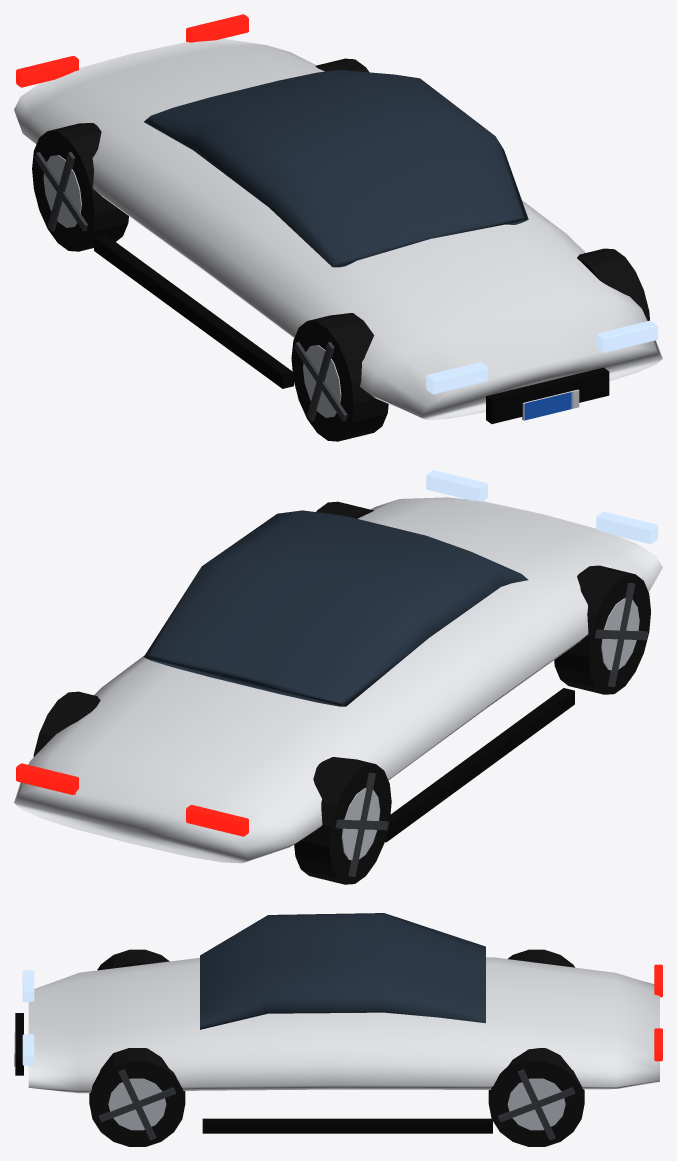
Rendered from sedan.glb.
3 renders of one model, top to bottom at view 1: azimuth 30°, elevation 25°; view 2: azimuth 150°, elevation 25°; view 3: azimuth 270°, elevation 25°, orthographic. The views are drawn at different scales.
Visible parts, largest first — view 1: SedHull, SedGlass, STire1, STire3, SedSkirt.001, SedGrille, STire0, SRim3, SRim1, SedHead.001, SedHead, SedTail.001 (+5 smaller); view 2: SedHull, SedGlass, STire3, STire1, SedSkirt.001, STire2, SRim3, SRim1, SedHead, SedHead.001, SedTail.001, SedTail (+2 smaller); view 3: SedHull, SedGlass, STire0, STire2, SedSkirt, SRim2, SRim0, STire1, STire3, SSpoke0.001, SSpoke2.001, SSpoke0 (+4 smaller).
Part boxes in pixels (box(x1,y1,x2,y2)): SedHull: box(14, 38, 662, 420); SedGlass: box(144, 70, 528, 267); STire1: box(291, 313, 388, 441); STire3: box(32, 123, 128, 251); SedSkirt.001: box(94, 234, 293, 388); SedGrille: box(486, 367, 609, 423); STire0: box(577, 248, 649, 320); SRim3: box(43, 155, 81, 227); SRim1: box(303, 345, 341, 417); SedHead.001: box(426, 362, 487, 394); SedHead: box(596, 320, 657, 352); SedTail.001: box(16, 56, 78, 87); SedHull: box(14, 497, 662, 863); SedGlass: box(144, 510, 528, 706); STire3: box(294, 757, 391, 884); STire1: box(554, 565, 650, 694); SedSkirt.001: box(385, 688, 574, 842); STire2: box(33, 691, 100, 756); SRim3: box(341, 788, 380, 860); SRim1: box(601, 598, 639, 670); SedHead: box(426, 470, 487, 501); SedHead.001: box(596, 511, 657, 543); SedTail.001: box(186, 805, 248, 836); SedTail: box(16, 763, 78, 794); SedHull: box(28, 957, 659, 1093); SedGlass: box(200, 913, 485, 1029); STire0: box(89, 1048, 185, 1146); STire2: box(488, 1048, 584, 1146); SedSkirt: box(202, 1118, 492, 1133); SRim2: box(507, 1078, 565, 1130); SRim0: box(108, 1078, 166, 1130); STire1: box(97, 949, 169, 970); STire3: box(508, 949, 574, 967); SSpoke0.001: box(98, 1087, 175, 1122); SSpoke2.001: box(498, 1087, 575, 1122); SSpoke0: box(118, 1069, 156, 1140).
Size of the model in its own units: 1.86 by 1.13 by 4.47.
Materials: 9 (1 with a texture image).
